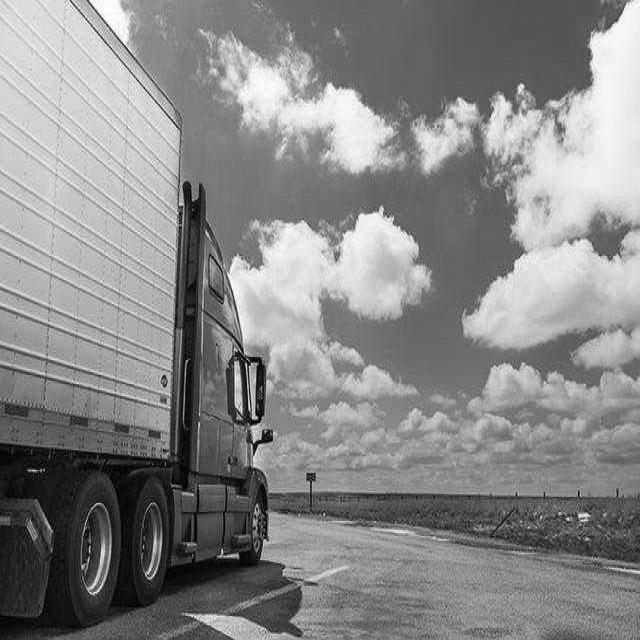Truck: (0, 0, 268, 626)
